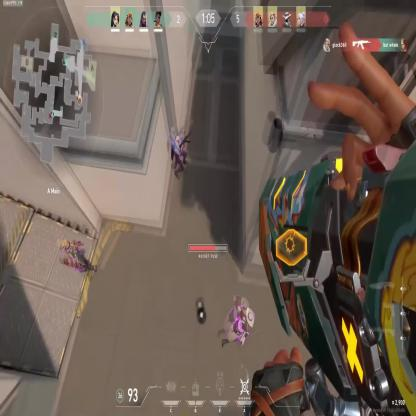enemy: (218, 297, 256, 350), (58, 236, 98, 275), (169, 128, 191, 178)
enemy_head: (244, 311, 254, 327), (62, 238, 73, 250), (176, 134, 180, 144)
